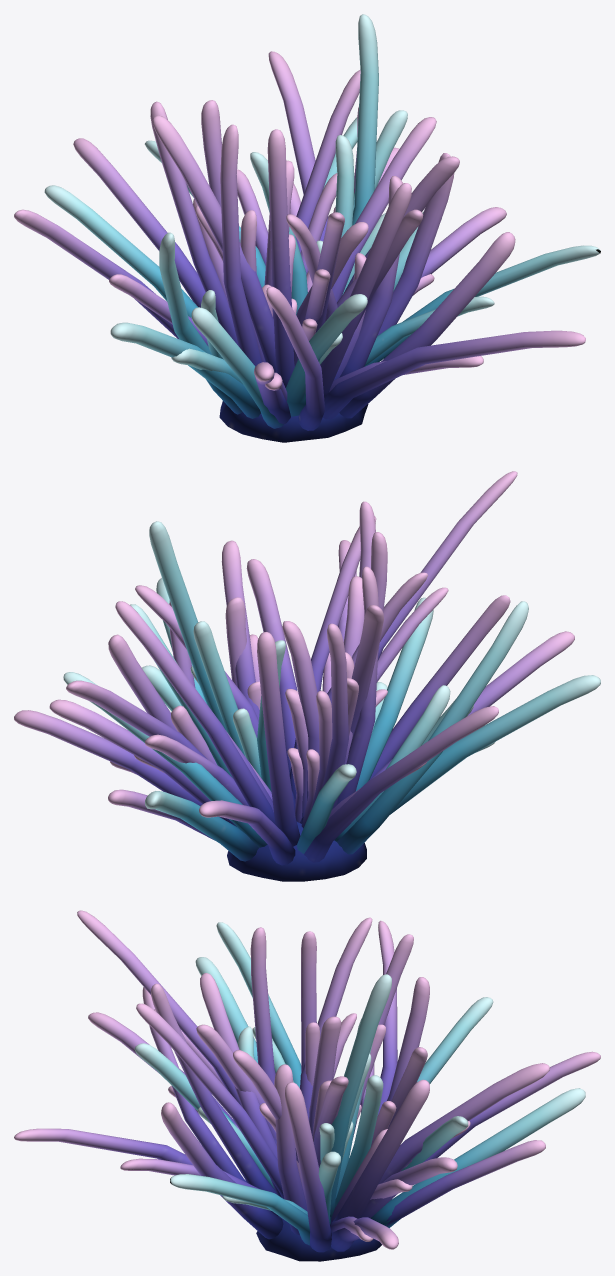
File: TendrilCoral.fbx
3 renders of one model, top to bottom at view 1: azimuth 30°, elevation 25°; view 2: azimuth 150°, elevation 25°; view 3: azimuth 270°, elevation 25°, orthographic. The views are drawn at different scales.
Visible parts, largest first — view 1: TendrilCoral_S3, TendrilCoral_S2, TendrilCoral_S1; view 2: TendrilCoral_S3, TendrilCoral_S2, TendrilCoral_S1; view 3: TendrilCoral_S3, TendrilCoral_S2.
Part boxes in pixels (x1,y1,x2,y2): TendrilCoral_S3: (14,14,600,442); TendrilCoral_S2: (109,135,494,400); TendrilCoral_S1: (262,240,346,340); TendrilCoral_S3: (14,471,600,881); TendrilCoral_S2: (110,587,494,841); TendrilCoral_S1: (233,689,387,828); TendrilCoral_S3: (14,910,600,1261); TendrilCoral_S2: (120,1009,470,1241).
Bounding box in the file's own units: 0.8602 × 0.564 × 0.981.
